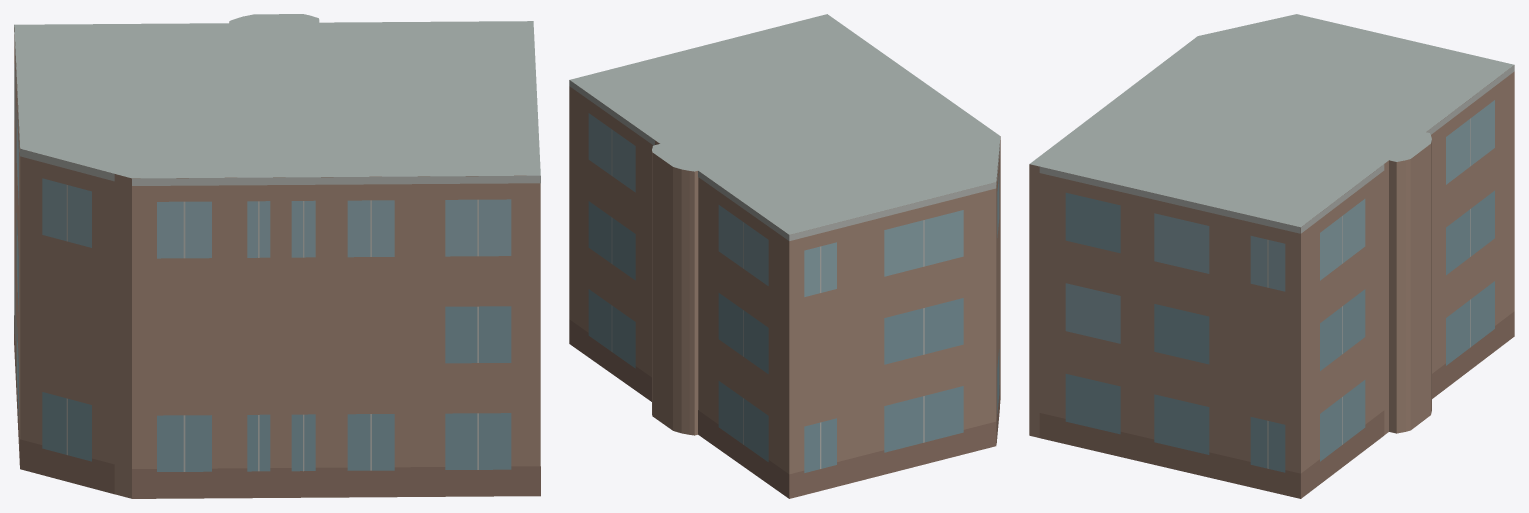
File: survey-upis-32709508.glb
3 views of the same model, side by side, from view 1: azimuth 30°, elevation 25°; view 2: azimuth 150°, elevation 25°; view 3: azimuth 270°, elevation 25° (orthographic). The views are drawn at different scales.
Visible parts, largest first — view 1: survey-upis-32709508.tmp; view 2: survey-upis-32709508.tmp; view 3: survey-upis-32709508.tmp.
Boxes of the visible parts, x1=… form: survey-upis-32709508.tmp: x1=14, y1=14, x2=540, y2=498; survey-upis-32709508.tmp: x1=569, y1=14, x2=1000, y2=498; survey-upis-32709508.tmp: x1=1029, y1=14, x2=1514, y2=498.
Bounding box in the file's own units: 17.19 × 10.2 × 16.53.
